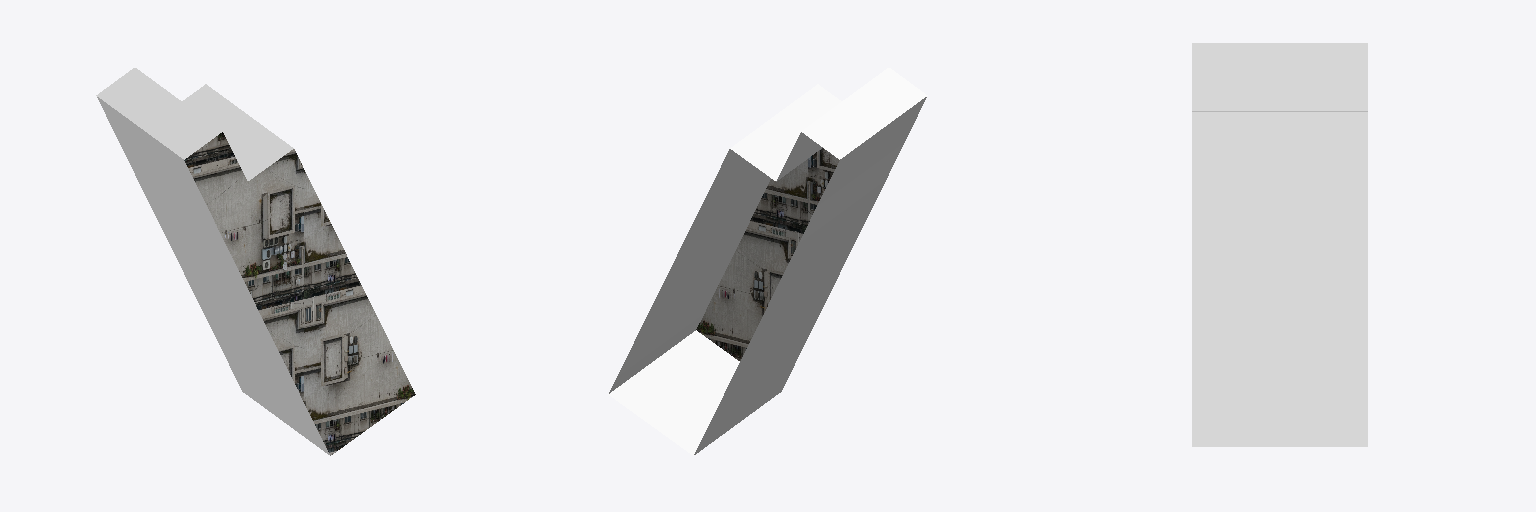
3 views of the same model, side by side, from view 1: azimuth 30°, elevation 25°; view 2: azimuth 150°, elevation 25°; view 3: azimuth 270°, elevation 25° (orthographic).
Parts seen in each view (by area): view 1: Building; view 2: Building; view 3: Building.
Boxes of the visible parts, x1,y1,x2,y2 form: Building: [96, 68, 415, 455]; Building: [608, 68, 927, 455]; Building: [1192, 43, 1367, 446].
Size of the model in its own units: 13.67 by 19.79 by 9.
Materials: 2 (1 with a texture image).